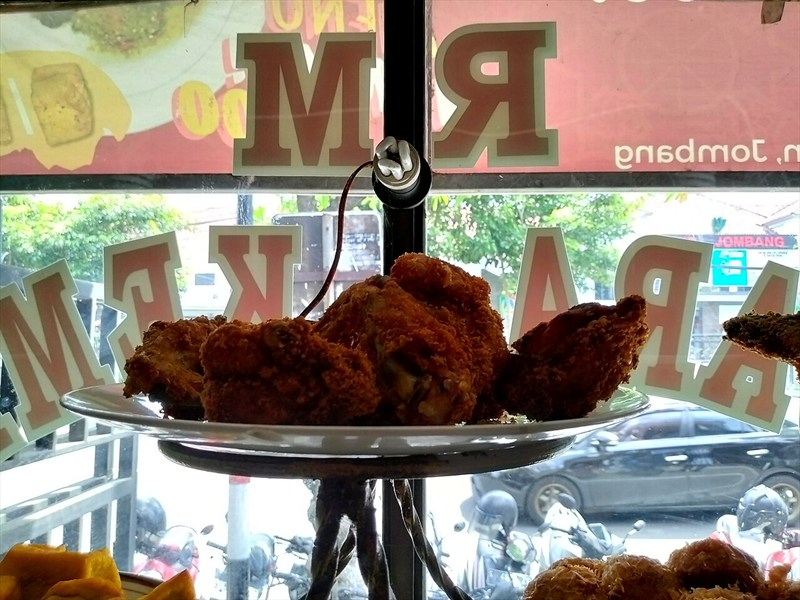Ayam Goreng: (87, 84, 743, 586)
